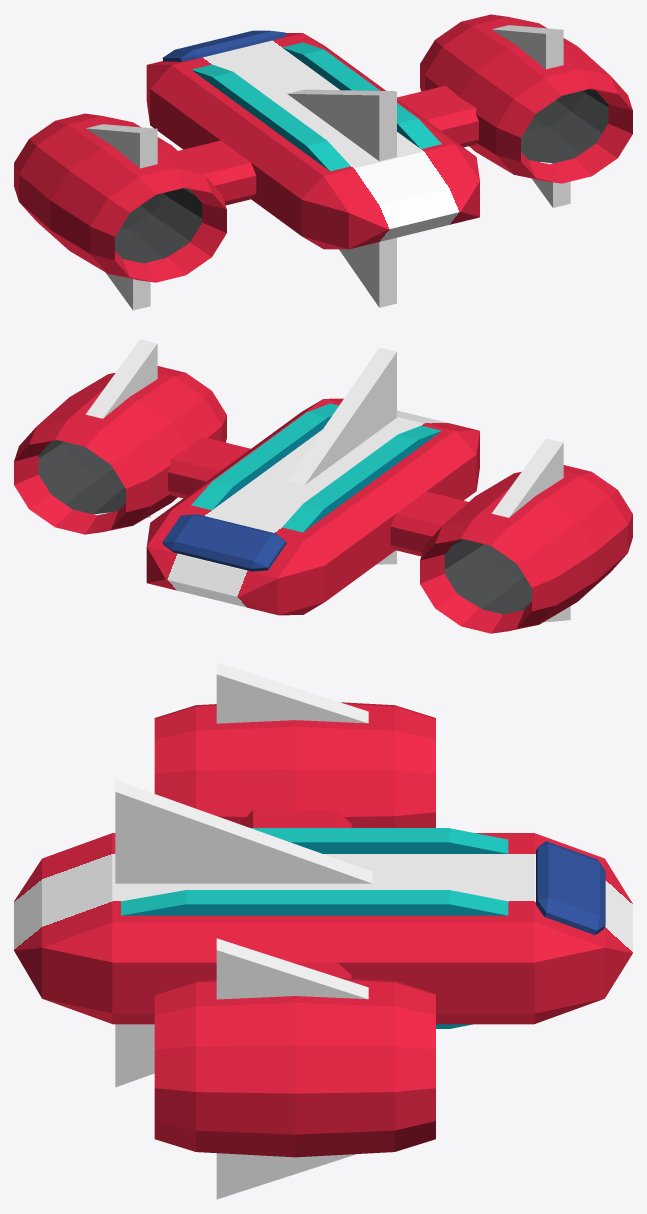
Rendered from ship.gltf.
3 renders of one model, top to bottom at view 1: azimuth 30°, elevation 25°; view 2: azimuth 150°, elevation 25°; view 3: azimuth 270°, elevation 25°, orthographic. The views are drawn at different scales.
Visible parts, largest first — view 1: beveled_cuboid (×4), torus (×2), mesh (×8), torus_selection (×2); view 2: beveled_cuboid (×4), torus (×2), mesh (×5), torus_selection (×2); view 3: torus (×2), beveled_cuboid (×3), mesh (×7).
Part boxes in pixels (x1,y1,x2,y2): beveled_cuboid (×4): [146, 30, 479, 249]; torus (×2): [14, 14, 632, 282]; mesh (×8): [86, 25, 570, 310]; torus_selection (×2): [115, 89, 608, 263]; beveled_cuboid (×4): [146, 398, 479, 615]; torus (×2): [14, 366, 632, 633]; mesh (×5): [85, 339, 563, 532]; torus_selection (×2): [38, 440, 531, 614]; torus (×2): [154, 702, 435, 1157]; beveled_cuboid (×3): [14, 809, 632, 1024]; mesh (×7): [115, 662, 508, 1199].
Size of the model in its own units: 0.975 by 0.3625 by 0.6875.
7 materials, 7 textured.
